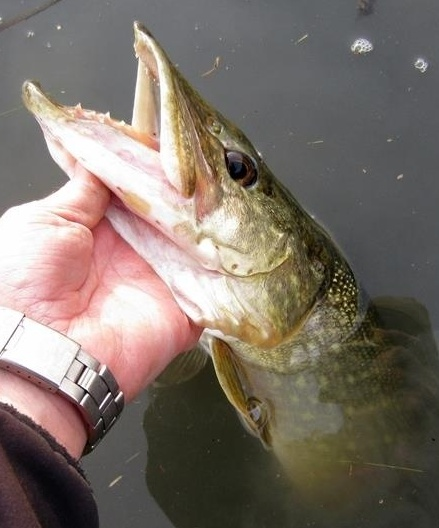Esox lucius: (20, 20, 419, 508)
